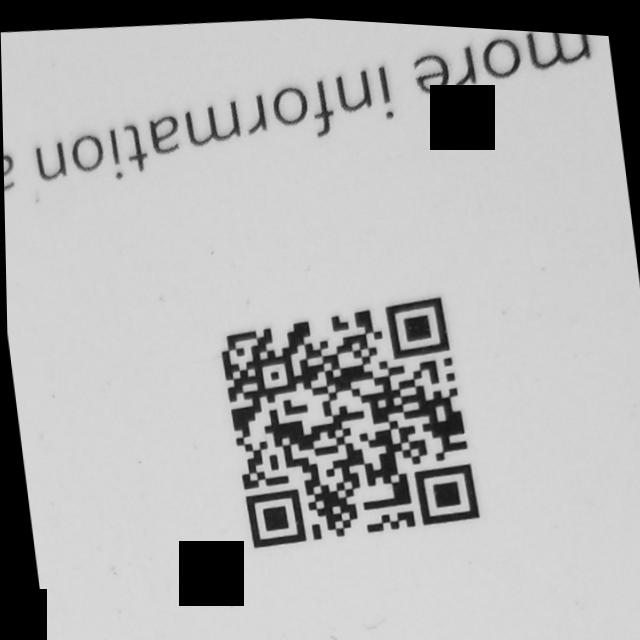QR_CODE: (192, 261, 503, 578)
